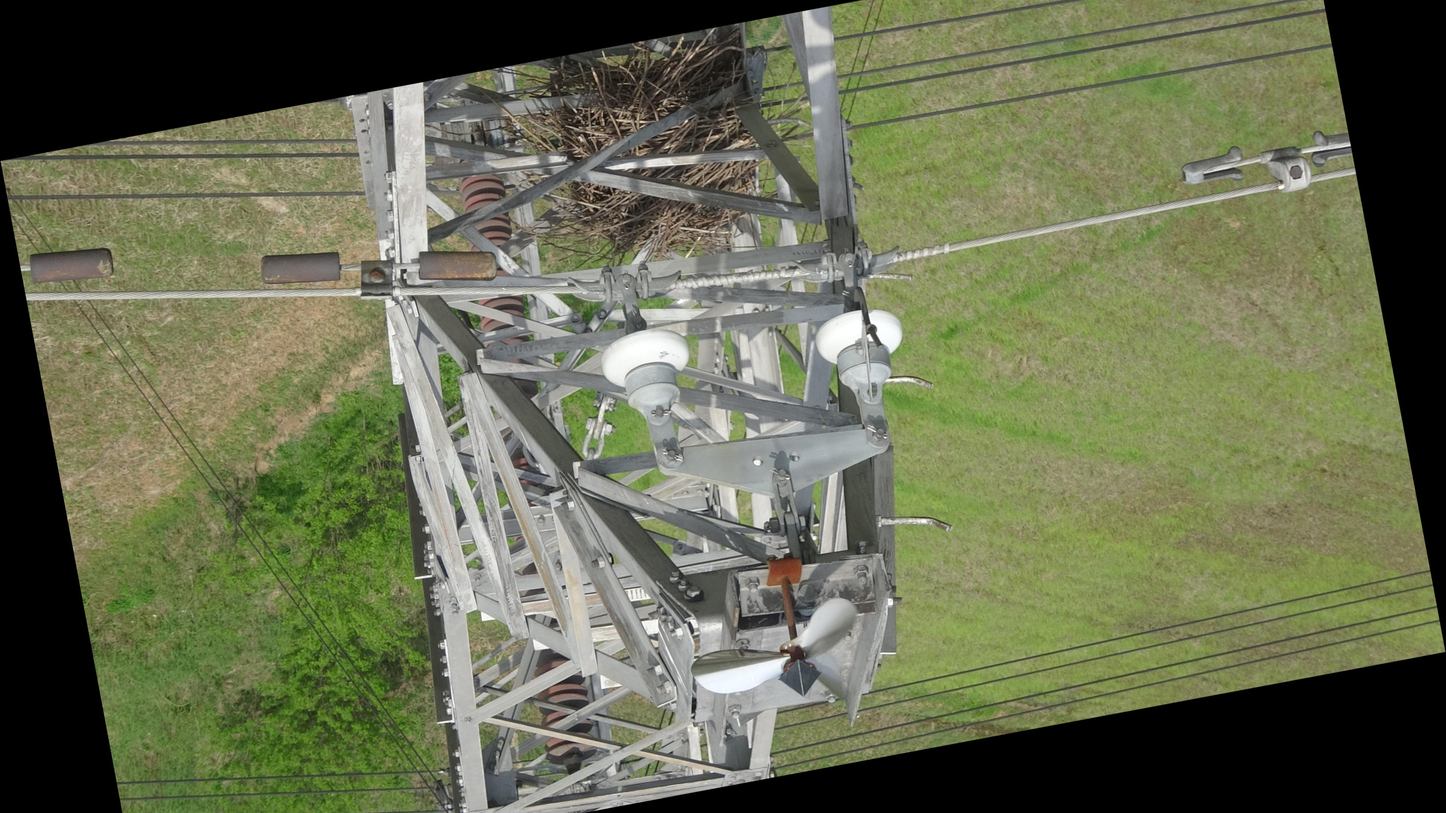damper: (1168, 118, 1359, 221)
damper_defect: (252, 208, 505, 327), (17, 233, 123, 298)
